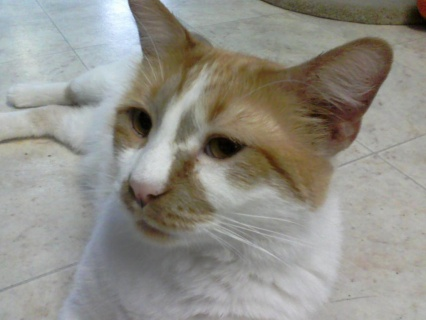Cat: (0, 0, 395, 320)
